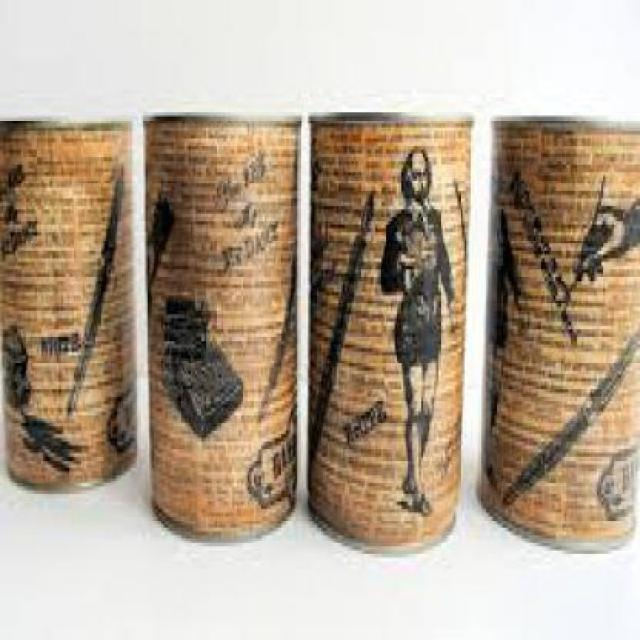METAL: (306, 108, 471, 550), (474, 116, 638, 550), (141, 108, 299, 542), (0, 119, 135, 492)
